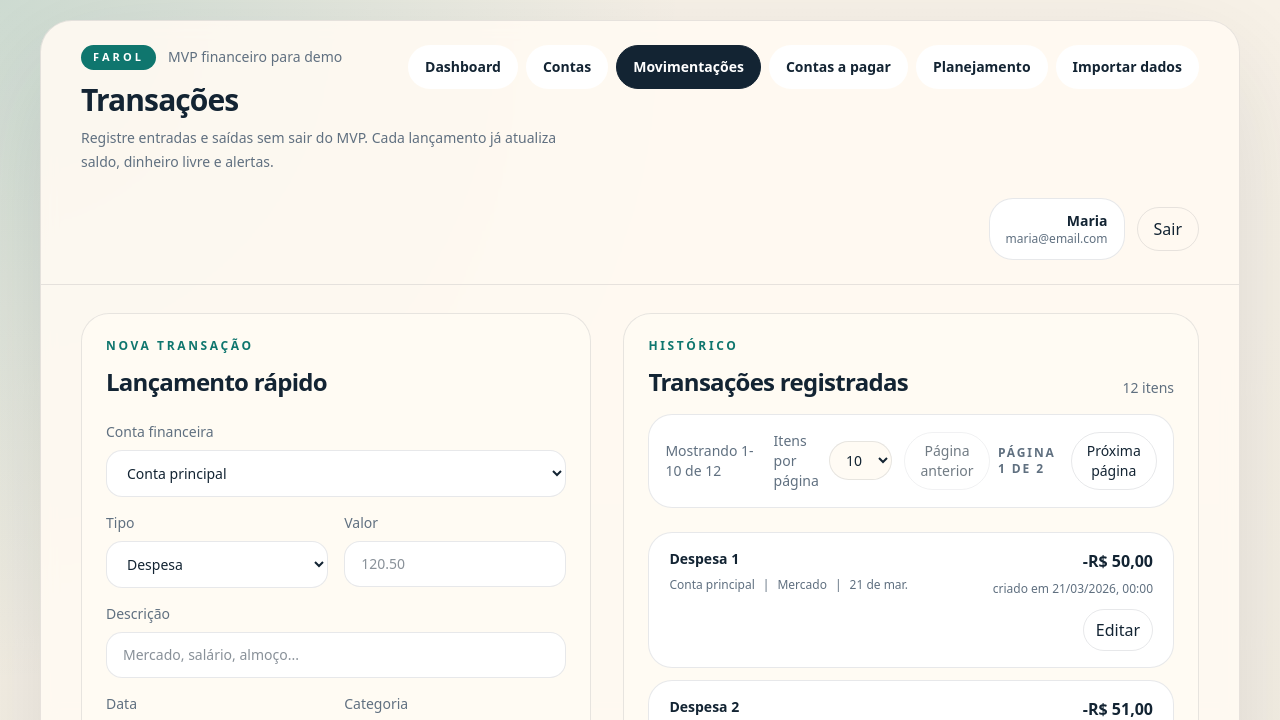
Test case: TransactionsPage › Transactions_HistoryPagination_ChangesPageAndPageSizeInsideHistoryBlock
This screenshot has width=1280, height=720.
Expected: the text "Mostrando 1-10 de 12" is shown, 665,440 -> 762,480
Expected: the text "Página 1 de 2" is shown, 998,444 -> 1062,476
Click the button "Próxima página".
click(1114, 460)  # box 1070,432 -> 1157,490
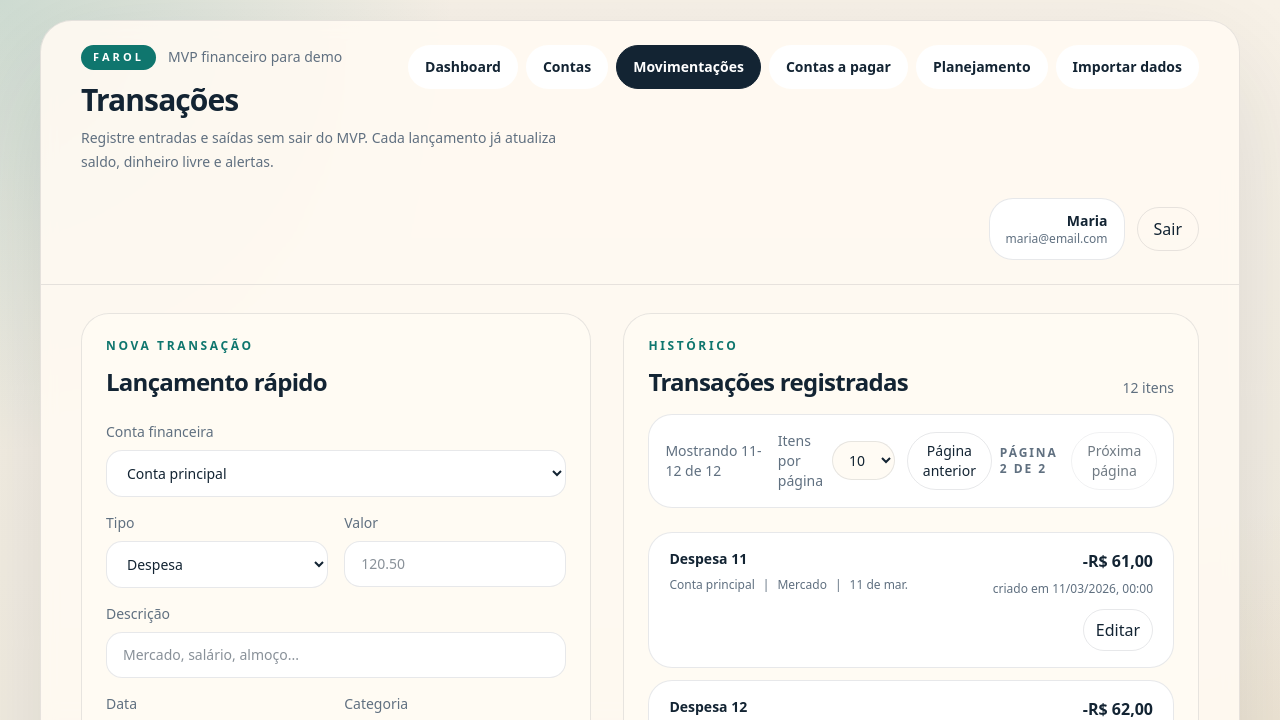
Expected: the text "Mostrando 11-12 de 12" is shown, 665,440 -> 766,480
Expected: the text "Página 2 de 2" is shown, 1000,444 -> 1063,476
Expected: the text "Despesa 11" is shown, 669,548 -> 747,568
Select "25" in the dropdown labelled "Itens por página" at (864, 460), box 832,441 -> 895,480
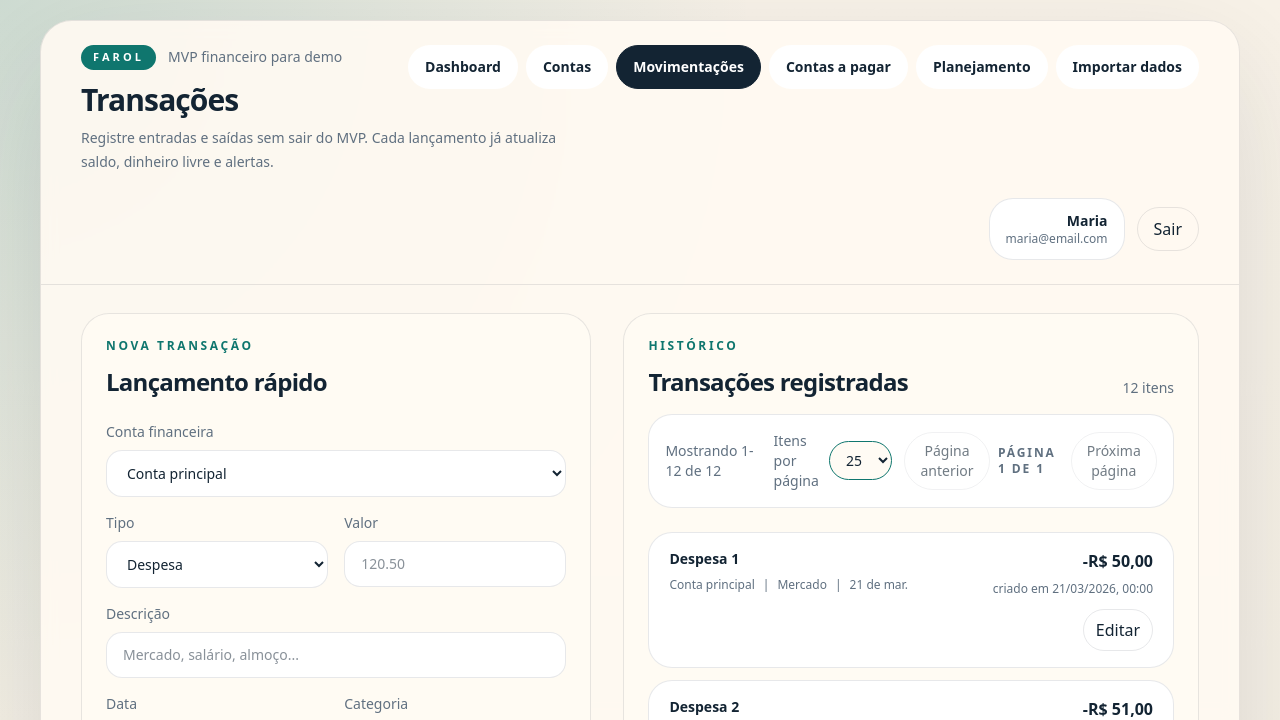
Expected: the text "Mostrando 1-12 de 12" is shown, 665,440 -> 762,480
Expected: the text "Página 1 de 1" is shown, 998,444 -> 1062,476
